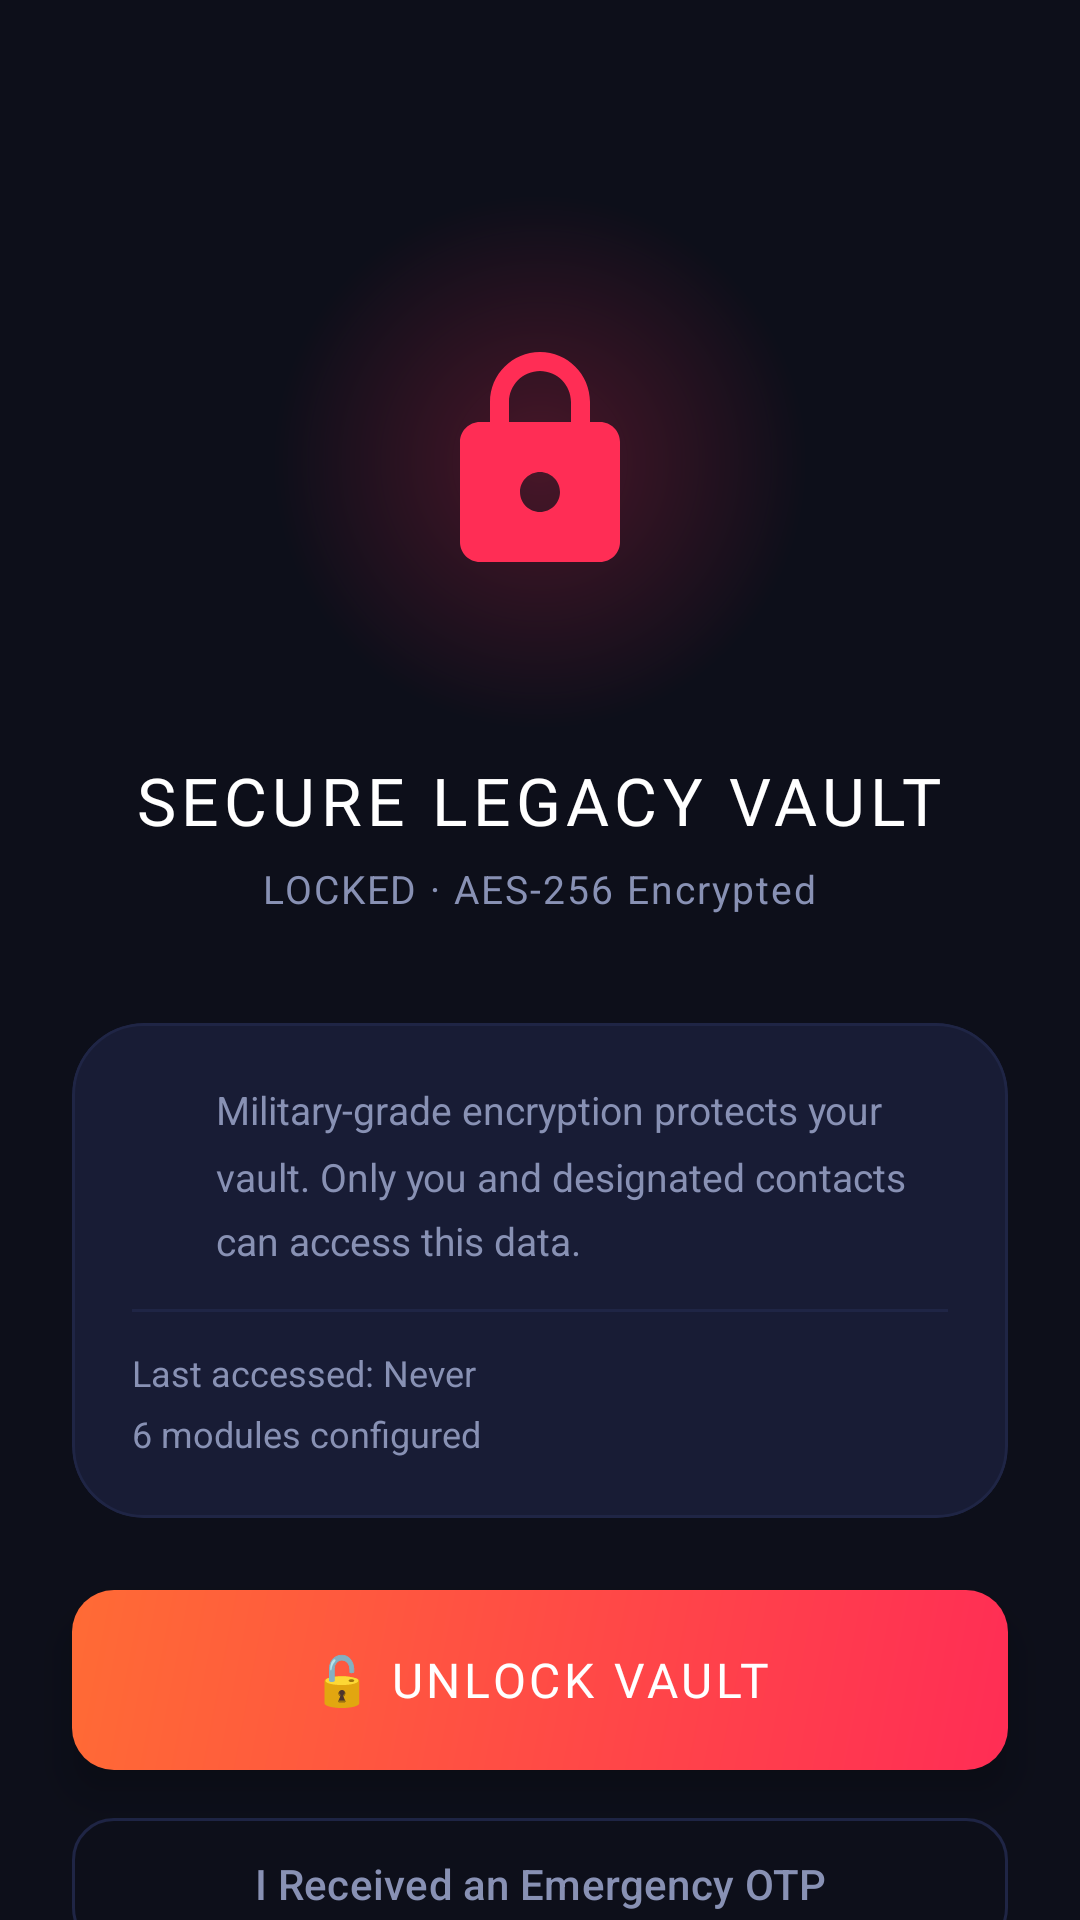

Named icons in this screenshot (1080px×1920px) and their centers, (x,y):
Vault Lock Icon: (540,457)
